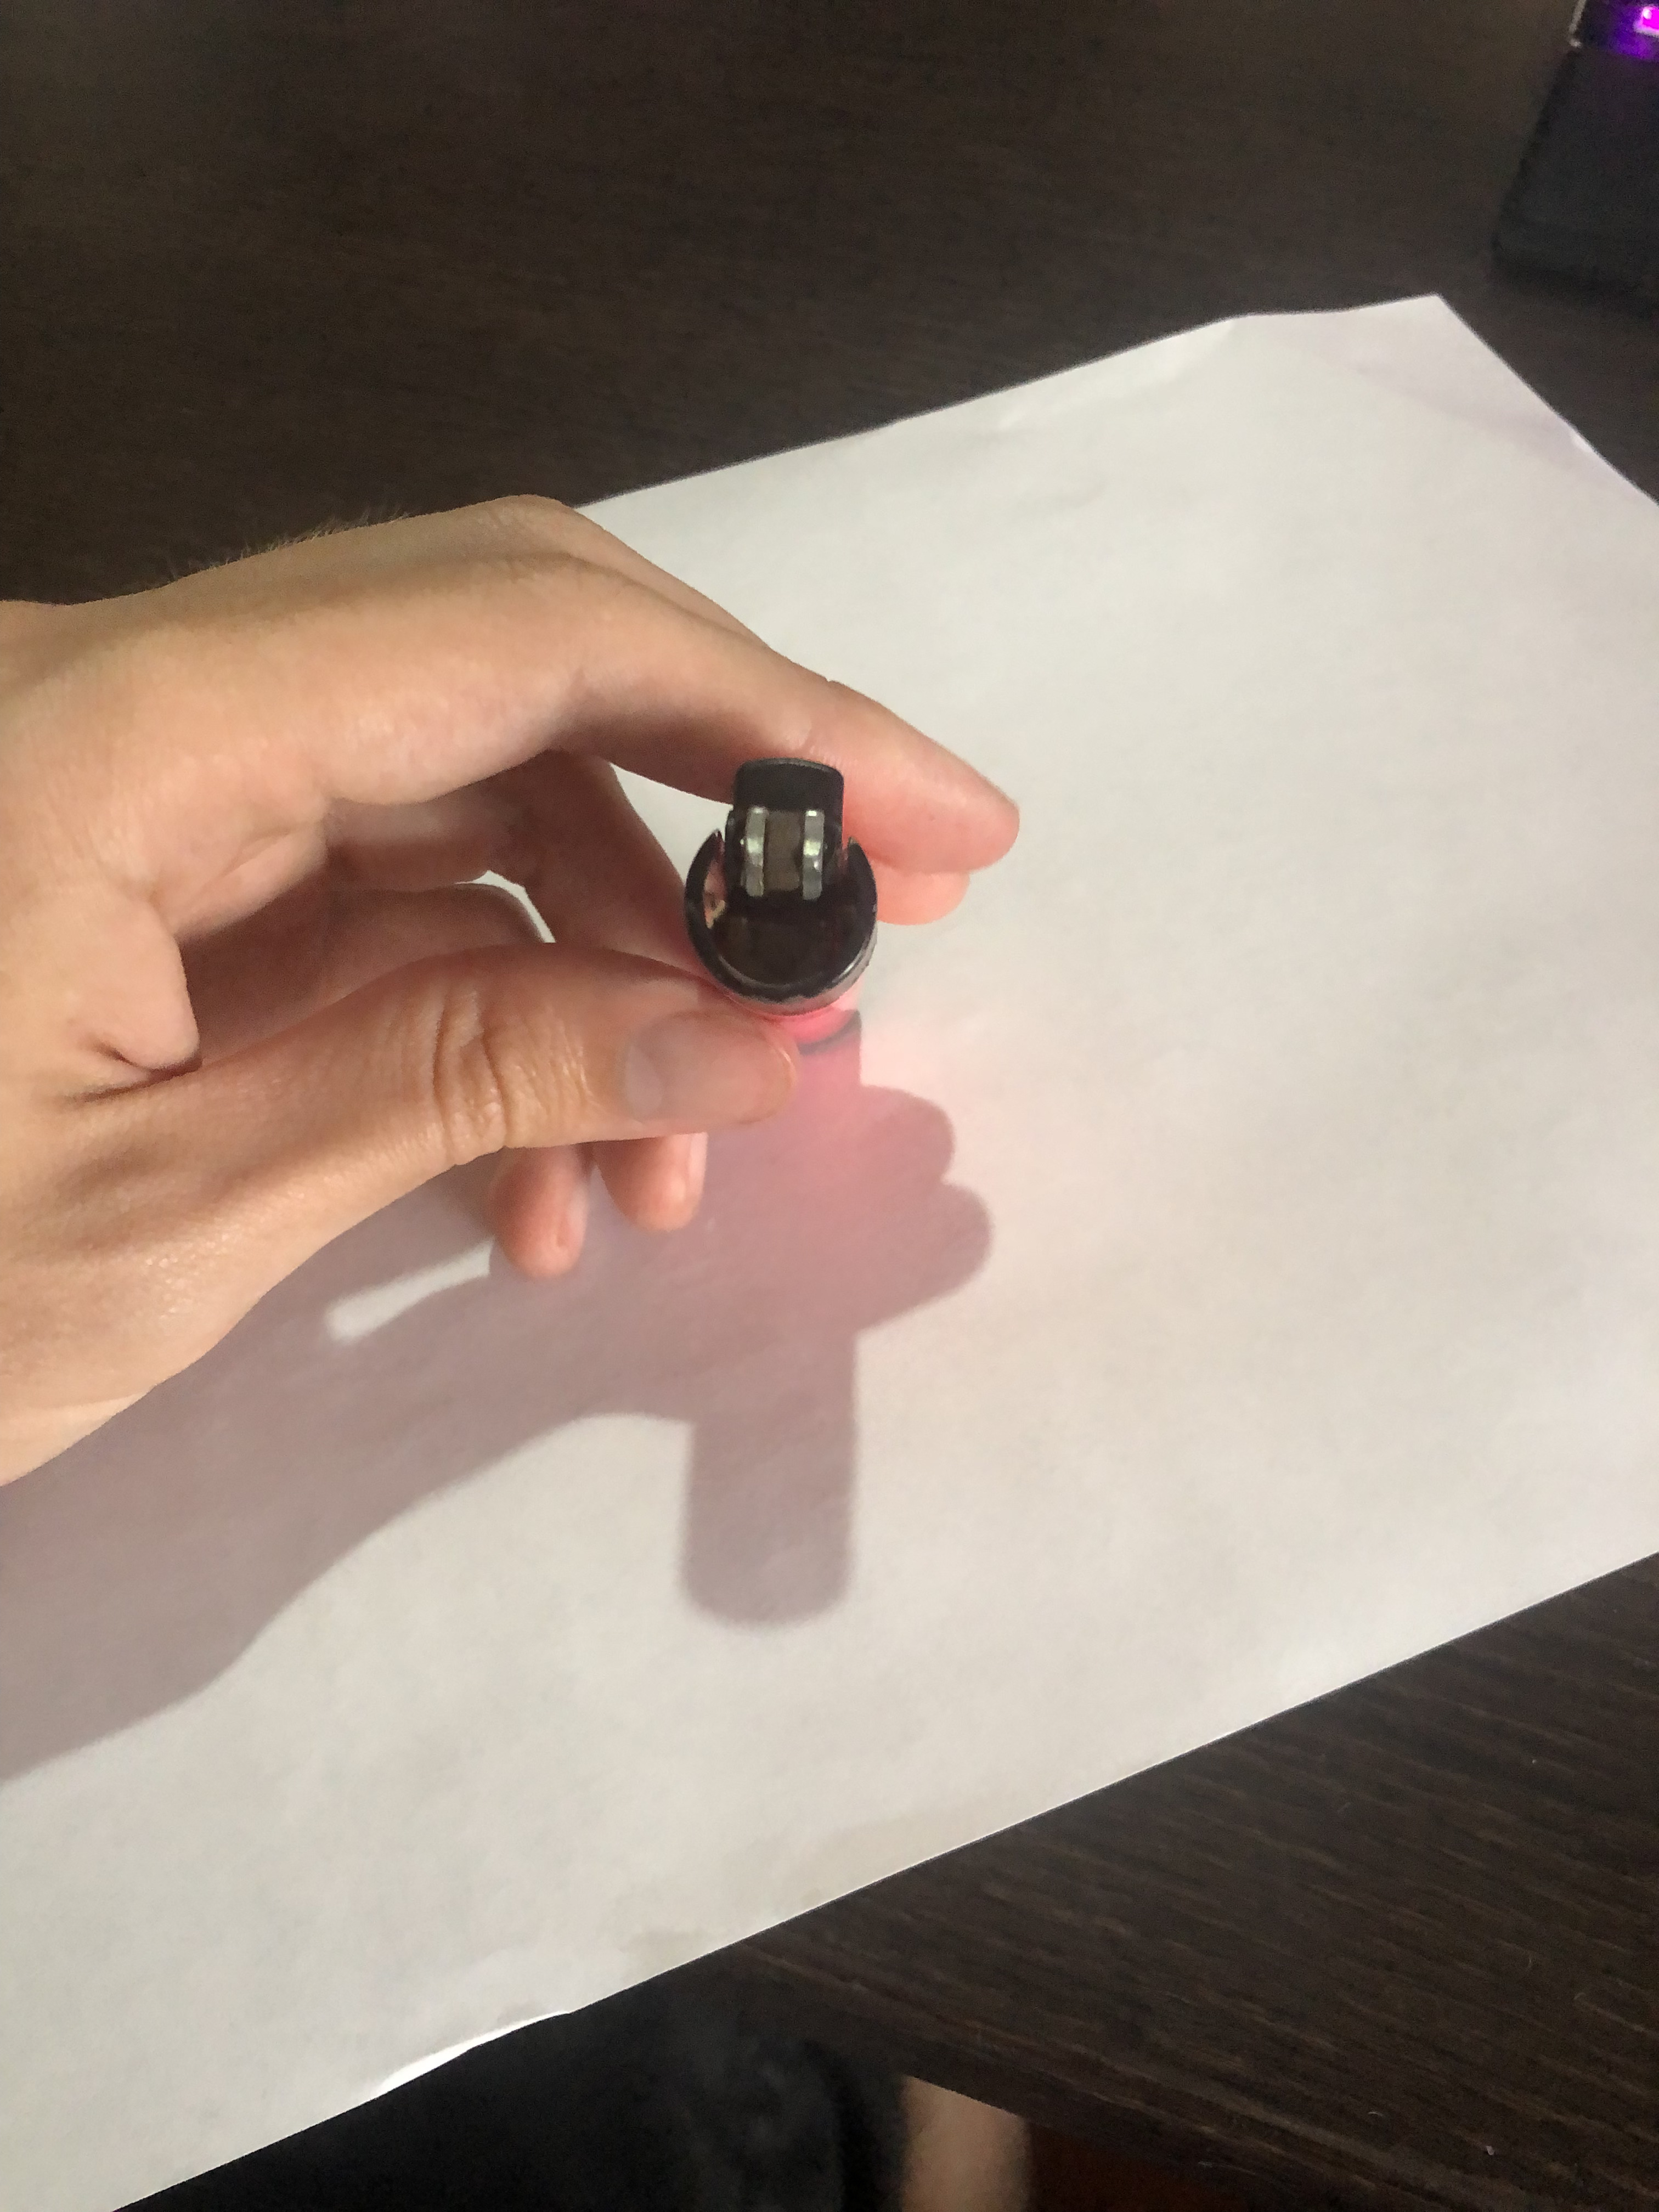Mechero: (680, 761, 885, 1089)
